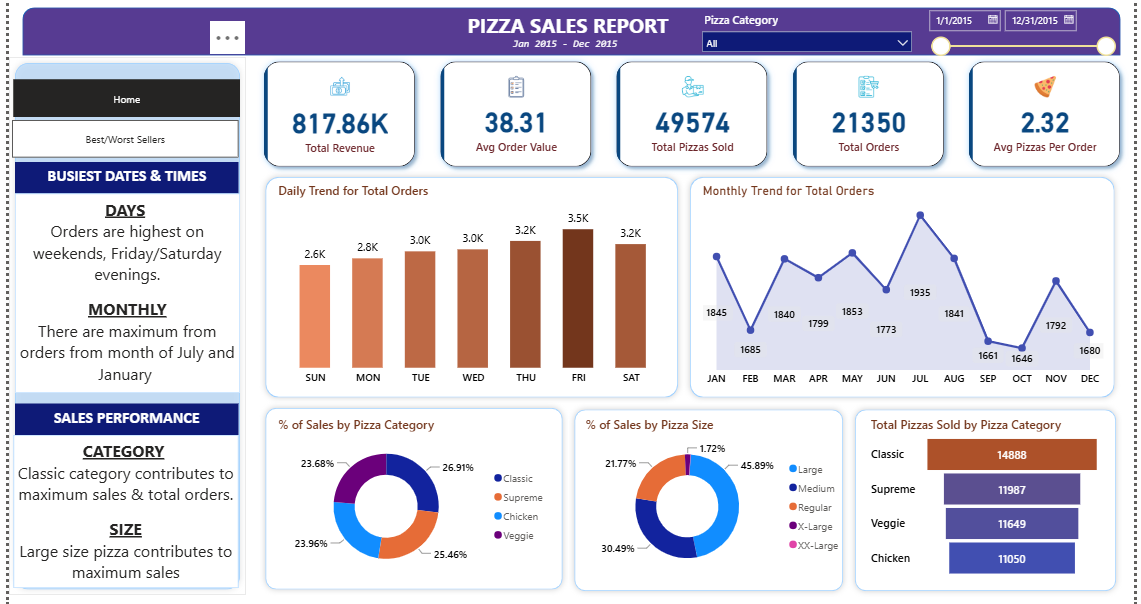

The page's visual inventory and layout, read from the dashboard file:
{"tool":"powerbi","page":{"name":"Home","canvas":[1500,820],"ordinal":0},"visuals":[{"type":"cardVisual","fields":{"Data":["pizza_sales.Total Revenue","pizza_sales.Avg Order Value","pizza_sales.Total Pizzas Sold","pizza_sales.Total Orders","pizza_sales.Avg Pizzas Per Order"]},"box":[322,72,1178,176],"z":0},{"type":"shape","box":[18,18,1464,64],"z":1000},{"type":"textbox","box":[578,18,342,50],"z":2000},{"type":"textbox","box":[616,50,258,44],"z":3000},{"type":"shape","box":[334,236,566,310],"z":4000},{"type":"columnChart","title":"Daily Trend for Total Orders","fields":{"Category":["pizza_sales.Order Day"],"Y":["pizza_sales.Total Orders"]},"box":[354,250,530,280],"z":5000},{"type":"shape","box":[900,236,582,310],"z":6000},{"type":"shape","box":[0,84,316,718],"z":7000},{"type":"stackedAreaChart","title":"Monthly Trend for Total Orders","fields":{"Category":["pizza_sales.Order Month"],"Y":["pizza_sales.Total Orders"]},"box":[920,252,544,280],"z":8000},{"type":"shape","box":[334,544,412,258],"z":9000},{"type":"shape","box":[746,546,374,258],"z":10000},{"type":"shape","box":[1120,546,364,258],"z":11000},{"type":"donutChart","title":"% of Sales by Pizza Category","fields":{"Category":["pizza_sales.pizza_category"],"Y":["pizza_sales.Total Revenue"]},"box":[354,562,372,220],"z":12000},{"type":"donutChart","title":"% of Sales by Pizza Size","fields":{"Category":["pizza_sales.pizza_size"],"Y":["pizza_sales.Total Revenue"]},"box":[764,562,356,220],"z":13000},{"type":"funnel","title":"Total Pizzas Sold by Pizza Category","fields":{"Category":["pizza_sales.pizza_category"],"Y":["pizza_sales.Total Pizzas Sold"]},"box":[1144,562,316,220],"z":14000},{"type":"textbox","box":[8,224,298,42],"z":15000},{"type":"textbox","box":[8.6,265.7,300,265.7],"z":16000},{"type":"textbox","box":[8,546,298,42],"z":17000},{"type":"textbox","box":[6,588,300,204],"z":18000},{"type":"slicer","fields":{"Values":["pizza_sales.pizza_category"]},"box":[914,18,300,74],"z":19000},{"type":"slicer","fields":{"Values":["pizza_sales.order_date"]},"box":[1214,12,270,96],"z":20000},{"type":"pageNavigator","box":[5.7,114.3,302.9,50],"z":20001},{"type":"pageNavigator","box":[4.3,168.6,302.9,50],"z":20002}]}

Visuals, with their boxes on the page's 1500x820 design canvas (x1, y1, x2, y2). These are canvas units, not pixel positions in the 1141x604 screenshot, which may show the page scaled, cropped or inside an application window:
cardVisual - pizza_sales.Total Revenue x pizza_sales.Avg Order Value: {"left": 322, "top": 72, "right": 1500, "bottom": 248}
shape: {"left": 18, "top": 18, "right": 1482, "bottom": 82}
textbox: {"left": 578, "top": 18, "right": 920, "bottom": 68}
textbox: {"left": 616, "top": 50, "right": 874, "bottom": 94}
shape: {"left": 334, "top": 236, "right": 900, "bottom": 546}
"Daily Trend for Total Orders" columnChart: {"left": 354, "top": 250, "right": 884, "bottom": 530}
shape: {"left": 900, "top": 236, "right": 1482, "bottom": 546}
shape: {"left": 0, "top": 84, "right": 316, "bottom": 802}
"Monthly Trend for Total Orders" stackedAreaChart: {"left": 920, "top": 252, "right": 1464, "bottom": 532}
shape: {"left": 334, "top": 544, "right": 746, "bottom": 802}
shape: {"left": 746, "top": 546, "right": 1120, "bottom": 804}
shape: {"left": 1120, "top": 546, "right": 1484, "bottom": 804}
"% of Sales by Pizza Category" donutChart: {"left": 354, "top": 562, "right": 726, "bottom": 782}
"% of Sales by Pizza Size" donutChart: {"left": 764, "top": 562, "right": 1120, "bottom": 782}
"Total Pizzas Sold by Pizza Category" funnel: {"left": 1144, "top": 562, "right": 1460, "bottom": 782}
textbox: {"left": 8, "top": 224, "right": 306, "bottom": 266}
textbox: {"left": 9, "top": 266, "right": 309, "bottom": 531}
textbox: {"left": 8, "top": 546, "right": 306, "bottom": 588}
textbox: {"left": 6, "top": 588, "right": 306, "bottom": 792}
slicer - pizza_sales.pizza_category: {"left": 914, "top": 18, "right": 1214, "bottom": 92}
slicer - pizza_sales.order_date: {"left": 1214, "top": 12, "right": 1484, "bottom": 108}
pageNavigator: {"left": 6, "top": 114, "right": 309, "bottom": 164}
pageNavigator: {"left": 4, "top": 169, "right": 307, "bottom": 219}
